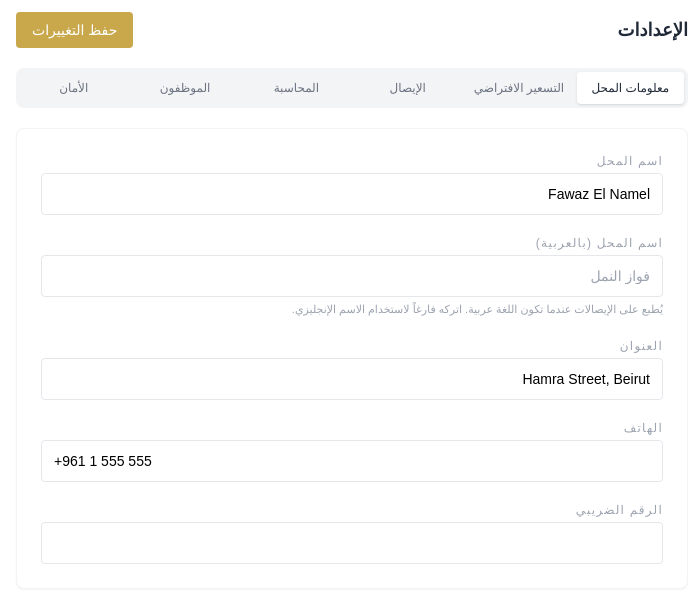
Test: settings › Add Cashier says when it fails (NEX-64) › an email already in use: the server's reason, and the form stays open with what was typed
Click the button "الموظفون" at (185, 88), box 131,72 -> 239,104
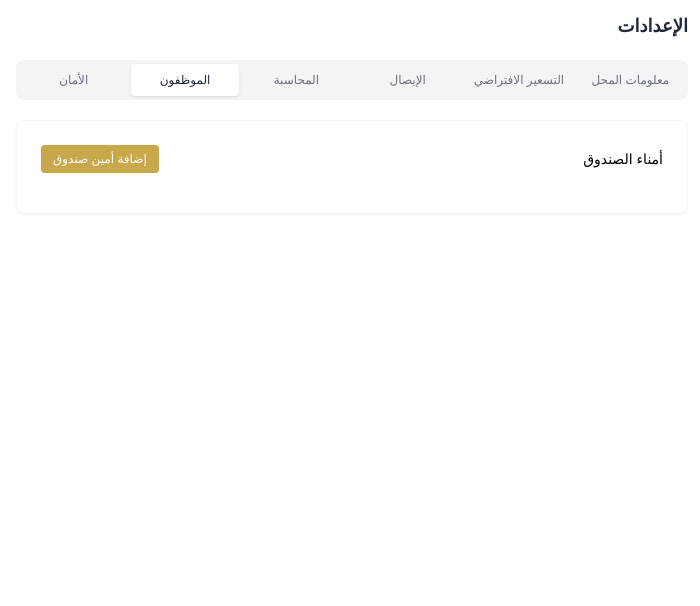
Click the button "إضافة أمين صندوق" at (100, 159), box 41,145 -> 159,173
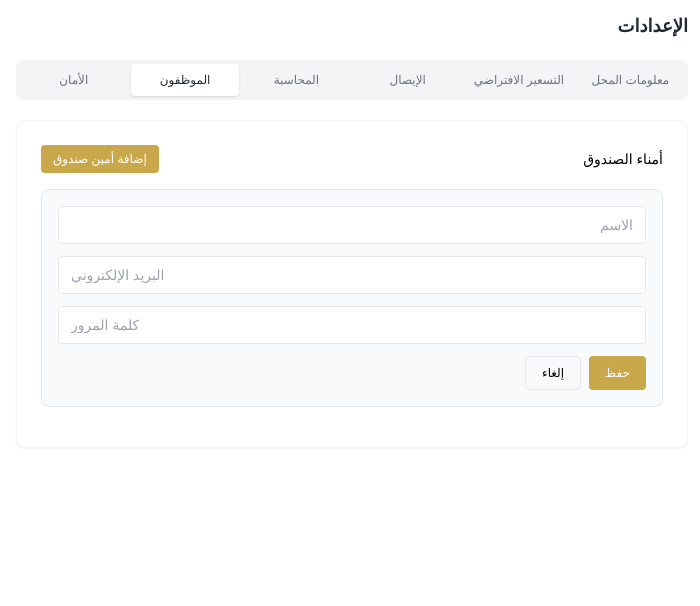
Type "Lina" into the field labelled "الاسم" at (352, 225), box 58,206 -> 646,244
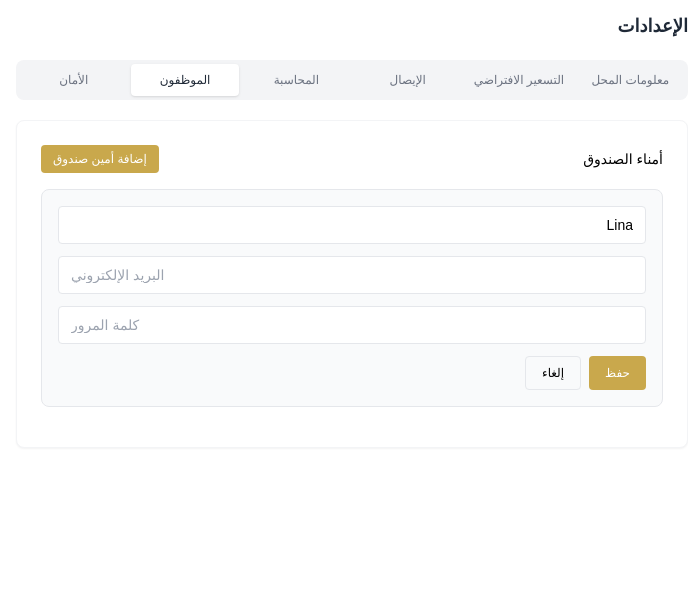
Type "lina@fawazelnamel.com" into the field labelled "البريد الإلكتروني" at (352, 275), box 58,256 -> 646,294
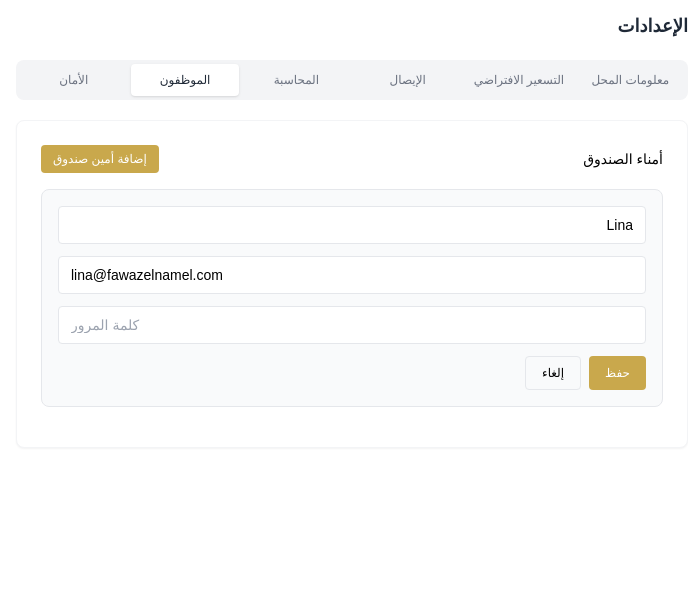
Type "s3cret-pass" into the password field labelled "كلمة المرور" at (352, 325), box 58,306 -> 646,344
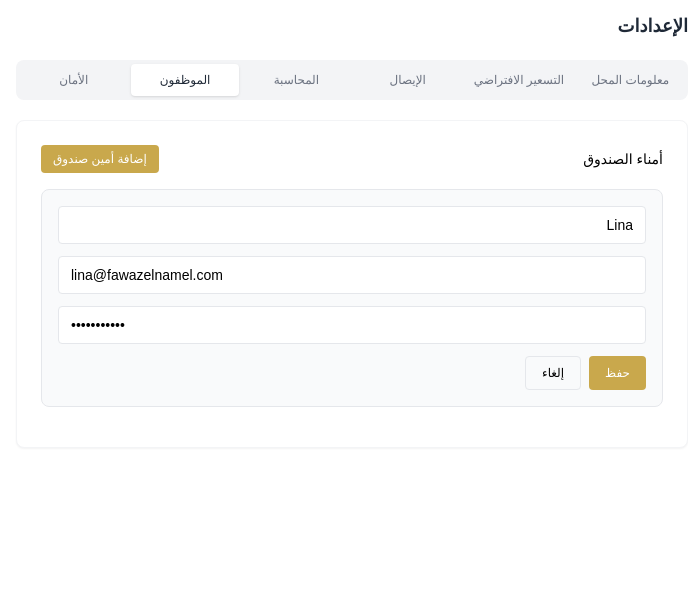
Click the button "حفظ" at (618, 373), box 589,356 -> 646,390
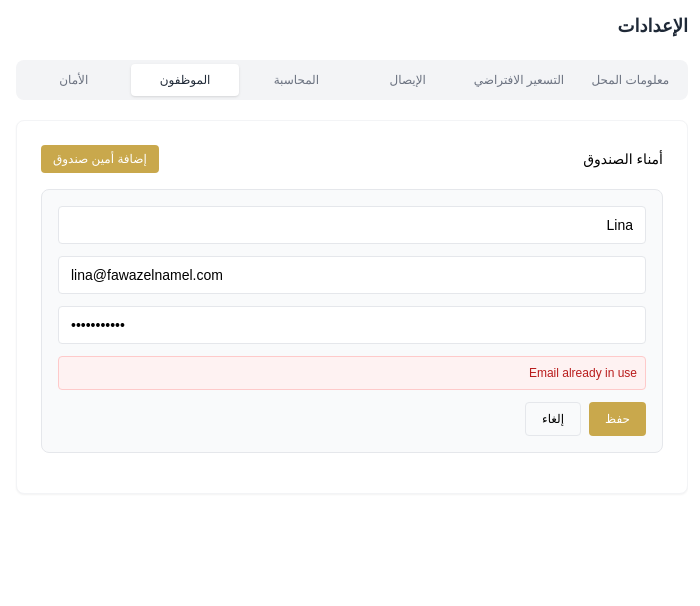
Now the message reads "Email already in use", box 529,366 -> 637,380
